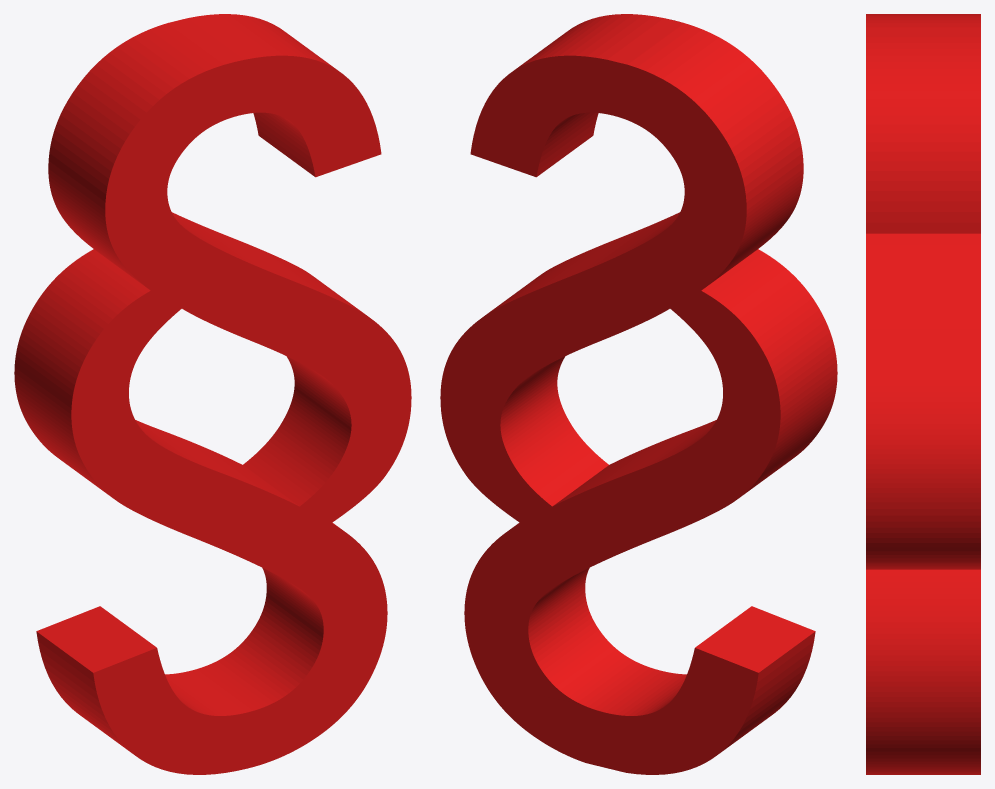
File: Lawsuit_v5.fbx
3 renders of one model, left to right at view 1: azimuth 30°, elevation 25°; view 2: azimuth 150°, elevation 25°; view 3: azimuth 270°, elevation 25°, orthographic.
Visible parts, largest first — view 1: Text; view 2: Text; view 3: Text.
Part boxes in pixels (x1=…): Text: x1=14, y1=14, x2=411, y2=774; Text: x1=440, y1=14, x2=837, y2=774; Text: x1=866, y1=14, x2=980, y2=774.
Bounding box in the file's own units: 34.5 × 68.79 × 10.
